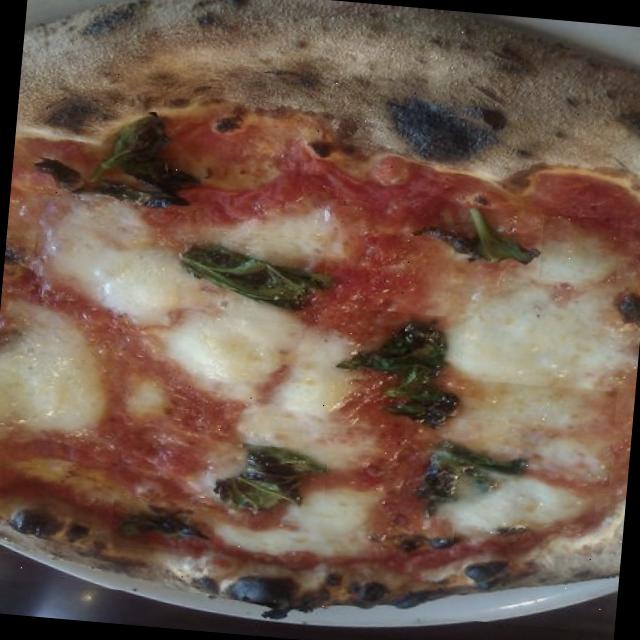basil: (347, 308, 466, 443), (167, 226, 327, 326), (61, 104, 206, 209), (397, 413, 521, 529), (418, 197, 545, 289), (202, 440, 328, 525), (110, 494, 216, 554)
cheese: (140, 268, 330, 422), (28, 192, 218, 342), (440, 269, 638, 400), (0, 288, 134, 456), (446, 378, 617, 493), (203, 391, 394, 483), (452, 464, 598, 560), (267, 323, 379, 438), (504, 210, 620, 308), (201, 193, 351, 264)
pizza: (0, 0, 640, 607)
